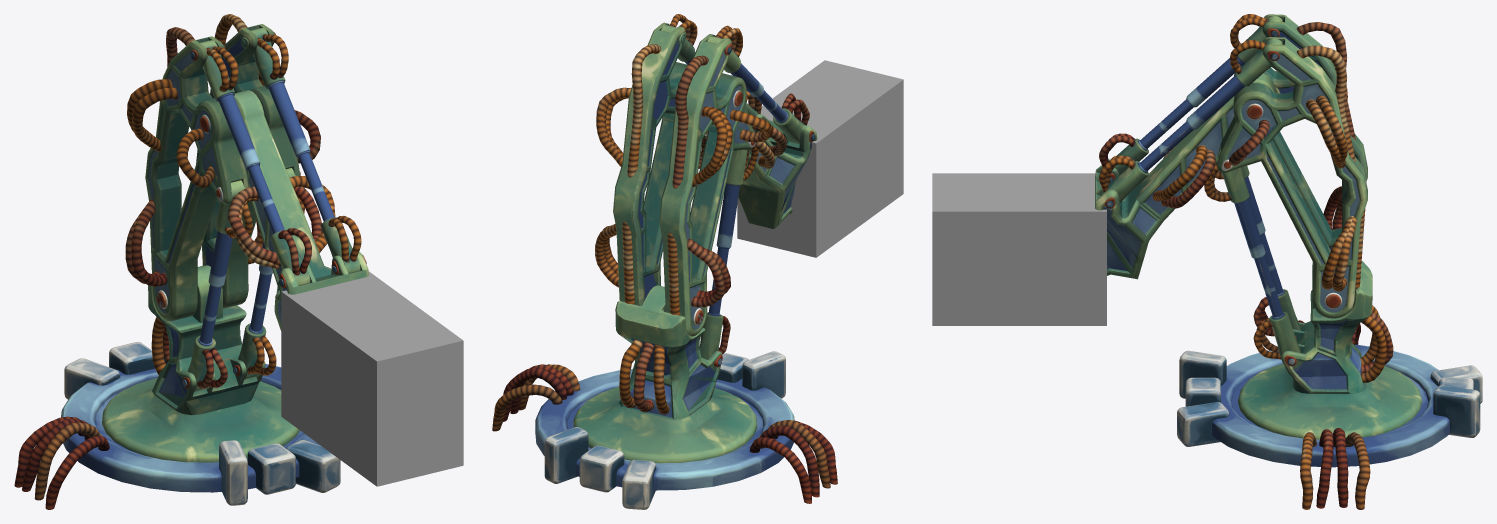
Rendered from Bras.fbx.
The picture shows the model from 3 angles, left to right: view 1: azimuth 30°, elevation 25°; view 2: azimuth 150°, elevation 25°; view 3: azimuth 270°, elevation 25°; orthographic projection. The views are drawn at different scales.
Parts seen in each view (by area): view 1: Hand, Arm_2, Arm_Base, Arm_1, Arm_3, Piston_3, Piston_4, Piston_1, Piston_2; view 2: Arm_2, Arm_Base, Hand, Arm_1, Arm_3, Piston_3, Piston_2, Piston_4, Piston_1; view 3: Hand, Arm_2, Arm_Base, Arm_1, Arm_3, Piston_3, Piston_4, Piston_1, Piston_2.
Boxes of the visible parts, left/top/right/bottom form: Hand: left=281, top=271, right=463, bottom=486; Arm_2: left=125, top=14, right=320, bottom=321; Arm_Base: left=14, top=342, right=340, bottom=509; Arm_1: left=102, top=265, right=299, bottom=462; Arm_3: left=228, top=90, right=368, bottom=330; Piston_3: left=200, top=28, right=310, bottom=170; Piston_4: left=248, top=153, right=361, bottom=285; Piston_1: left=187, top=272, right=276, bottom=391; Piston_2: left=208, top=168, right=304, bottom=287; Arm_2: left=595, top=22, right=773, bottom=336; Arm_Base: left=492, top=351, right=837, bottom=509; Hand: left=737, top=60, right=903, bottom=257; Arm_1: left=573, top=285, right=757, bottom=463; Arm_3: left=701, top=114, right=817, bottom=228; Piston_3: left=661, top=14, right=763, bottom=97; Piston_2: left=698, top=136, right=758, bottom=248; Piston_4: left=745, top=90, right=809, bottom=143; Piston_1: left=699, top=247, right=730, bottom=359; Hand: left=932, top=173, right=1106, bottom=325; Arm_2: left=1217, top=14, right=1367, bottom=318; Arm_Base: left=1177, top=320, right=1482, bottom=509; Arm_1: left=1237, top=261, right=1421, bottom=439; Arm_3: left=1095, top=73, right=1275, bottom=279; Piston_3: left=1186, top=14, right=1282, bottom=129; Piston_4: left=1099, top=99, right=1193, bottom=202; Piston_1: left=1253, top=233, right=1300, bottom=364; Piston_2: left=1204, top=150, right=1265, bottom=258.
Bounding box in the file's own units: 10.4 × 12.66 × 15.59.
2 materials, 1 textured.
